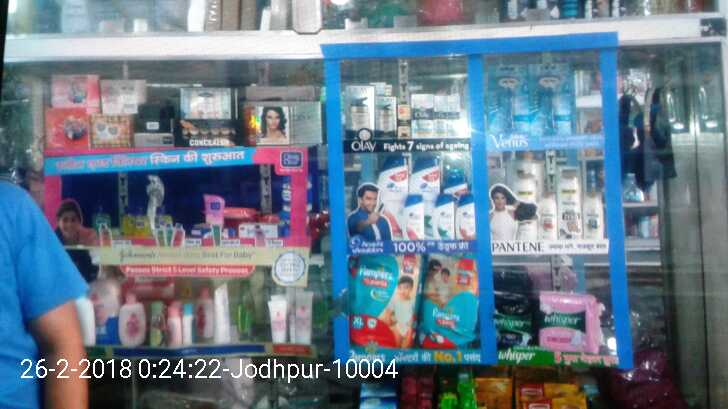venus: (531, 62, 574, 133), (489, 61, 531, 133)
